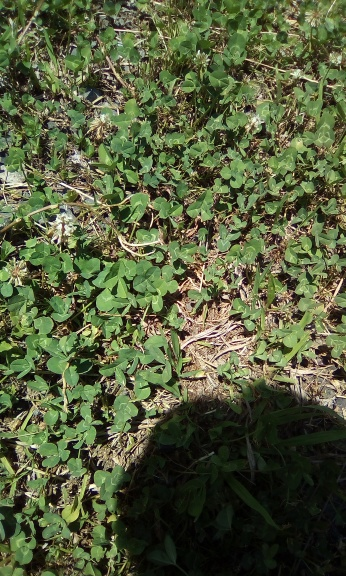4leaf: (132, 259, 162, 295)
